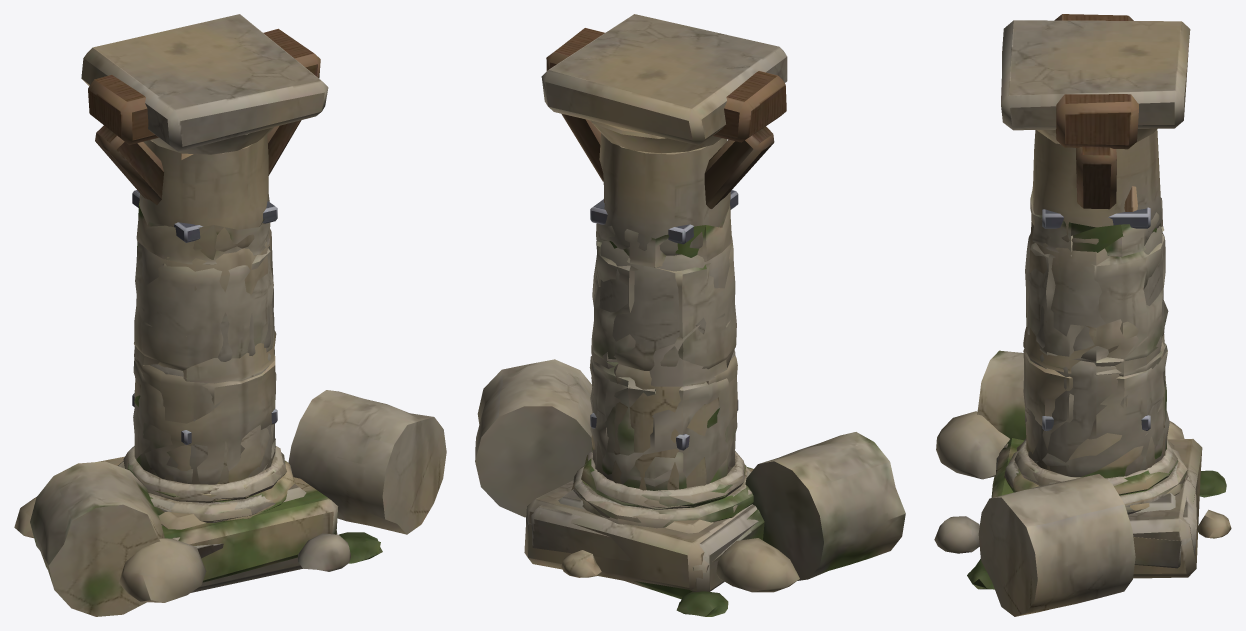
File: env-columns.glb
3 views of the same model, side by side, from view 1: azimuth 30°, elevation 25°; view 2: azimuth 150°, elevation 25°; view 3: azimuth 270°, elevation 25° (orthographic).
Parts seen in each view (by area): view 1: column-moss, column-intact, column-broken, column-wood; view 2: column-intact, column-broken, column-moss, column-wood; view 3: column-broken, column-intact, column-moss, column-wood.
Boxes of the visible parts, box(x1,y1,x2,y2) form: column-moss: box(30, 201, 382, 616); column-intact: box(81, 14, 328, 522); column-broken: box(14, 315, 446, 602); column-wood: box(88, 28, 320, 529); column-intact: box(531, 14, 787, 591); column-broken: box(475, 320, 799, 592); column-moss: box(526, 204, 905, 616); column-wood: box(546, 28, 786, 533); column-broken: box(934, 319, 1231, 616); column-intact: box(1001, 20, 1196, 555); column-moss: box(967, 189, 1226, 589); column-wood: box(1016, 14, 1175, 513).
Size of the model in its own units: 1.44 by 1.64 by 0.9055.
Materials: 1 (1 with a texture image).
